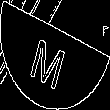M_N: (34, 23, 76, 87)
